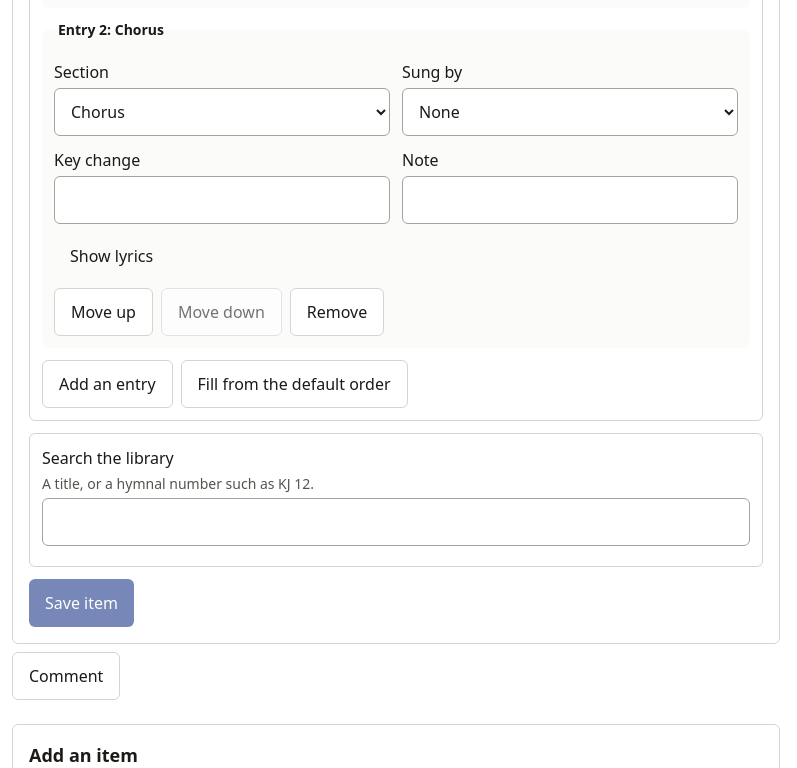
TC-E-003 sequence editor › offers only the sections of the song and fills from the default order
The image size is (797, 768).
(page scrolled)
What coordinates should you click on to do the following:
click the button "Fill from the default order"
I would click on:
 (294, 384)
Its box is [180,360,408,408].
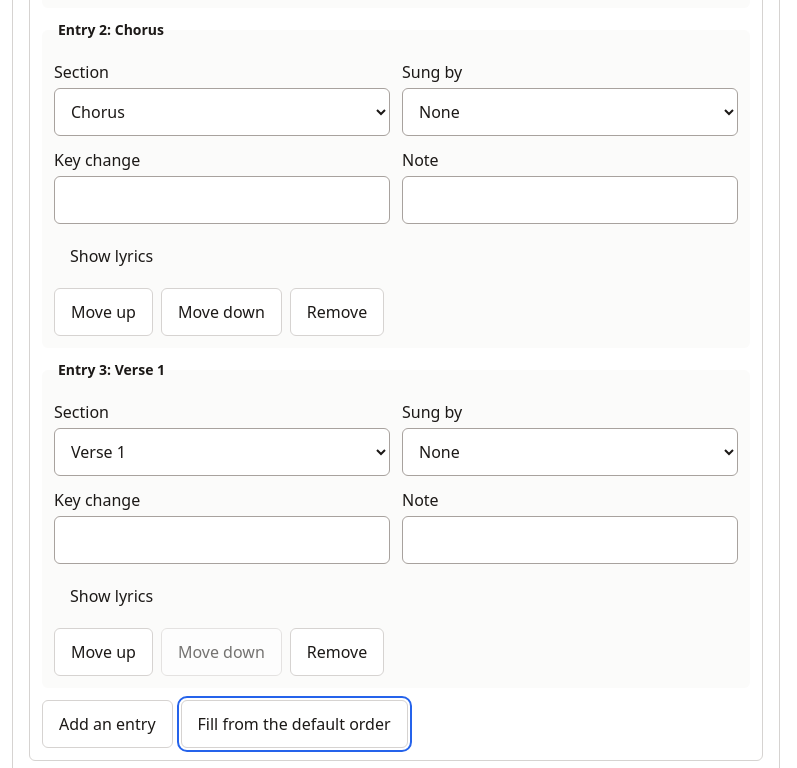
Expected: the text "Entry 3: Verse 1" is shown, [54,360,169,380]
